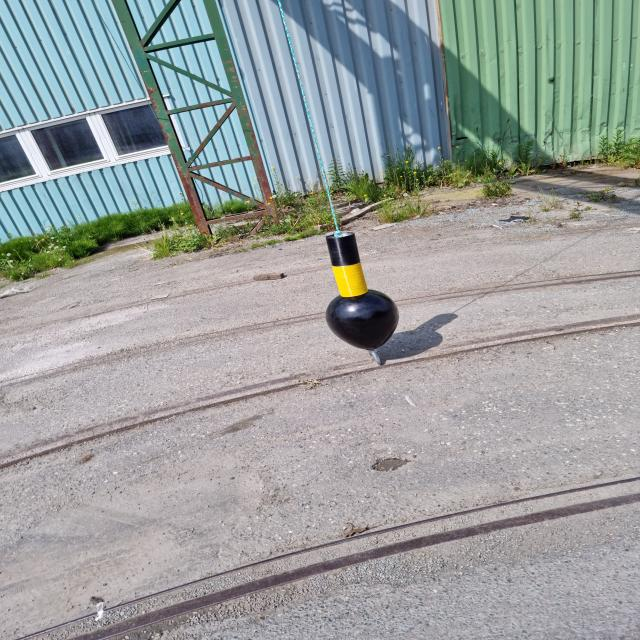east: (324, 234, 401, 349)
